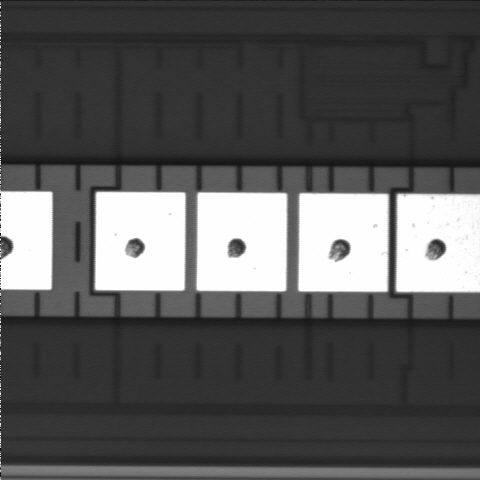pad: (95, 192, 185, 291), (298, 193, 388, 292), (197, 193, 287, 291)
